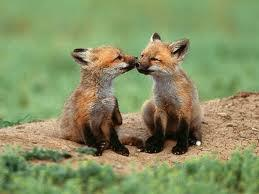LoboGuara: (130, 31, 214, 156), (58, 45, 139, 159)
